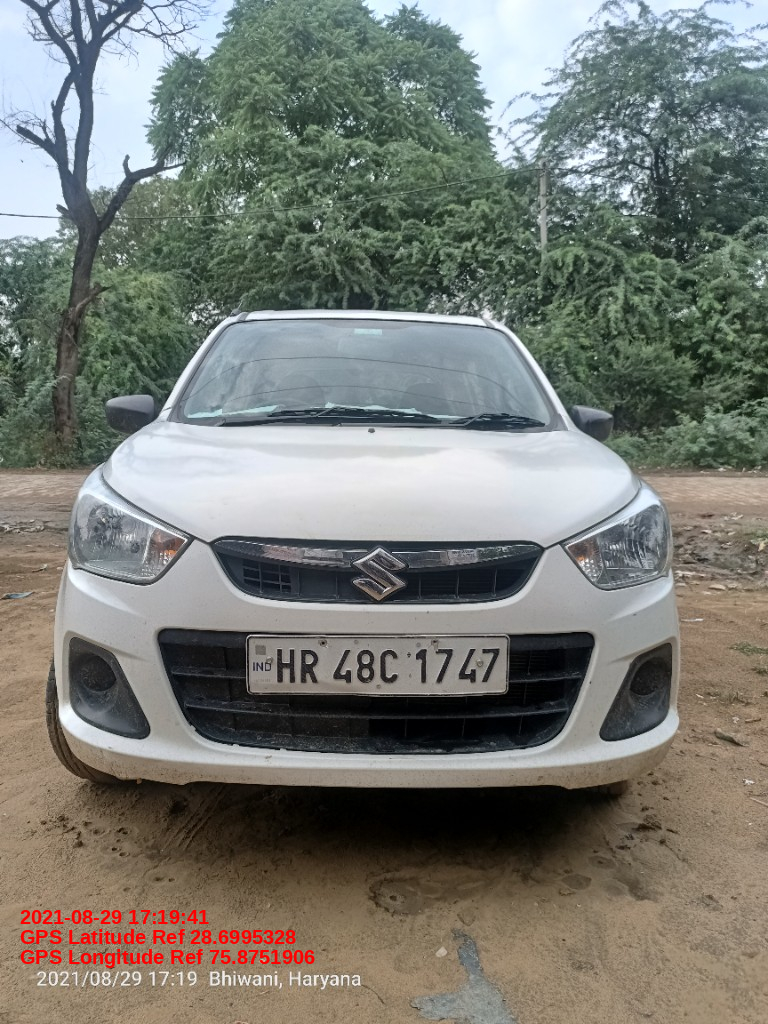Scratched: (256, 752, 280, 767), (583, 676, 599, 690), (628, 610, 642, 624)
